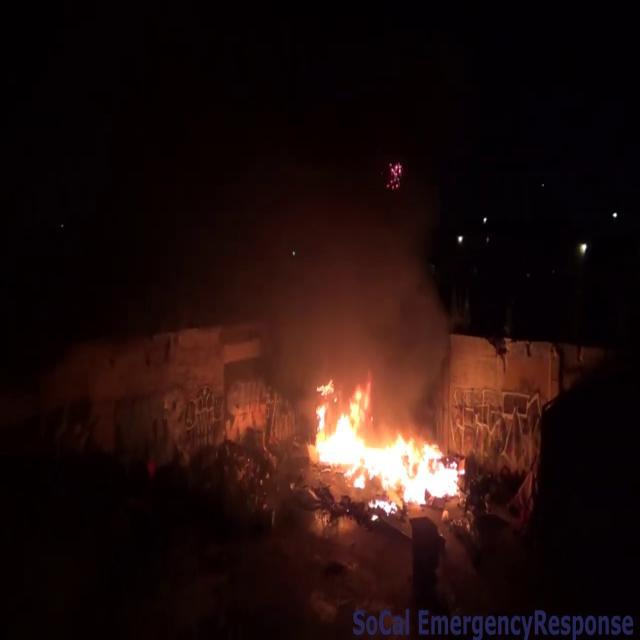Fire: (300, 376, 468, 510)
